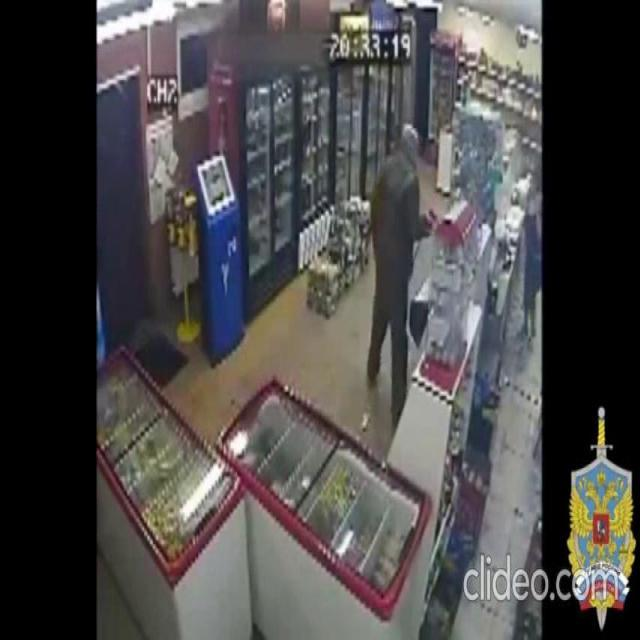pistol: (430, 206, 440, 225)
